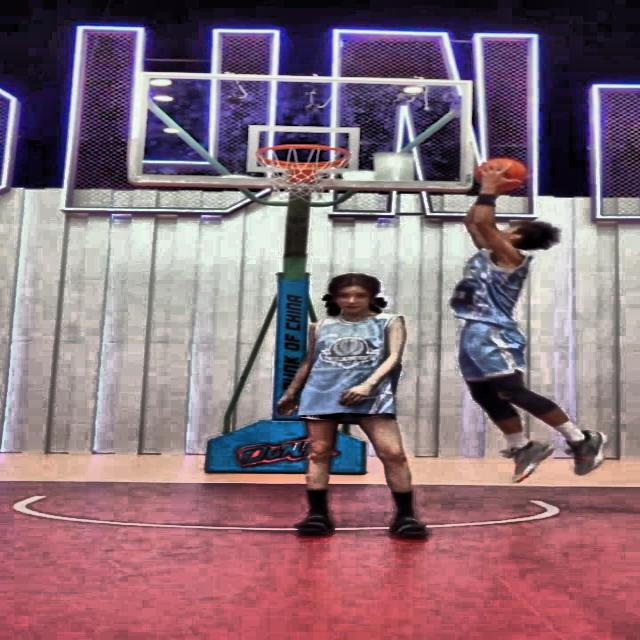rim: (258, 145, 352, 202)
